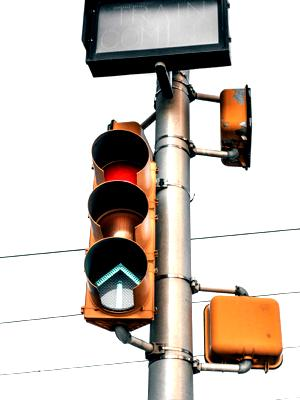International Road Signal Light: (83, 121, 160, 331)
